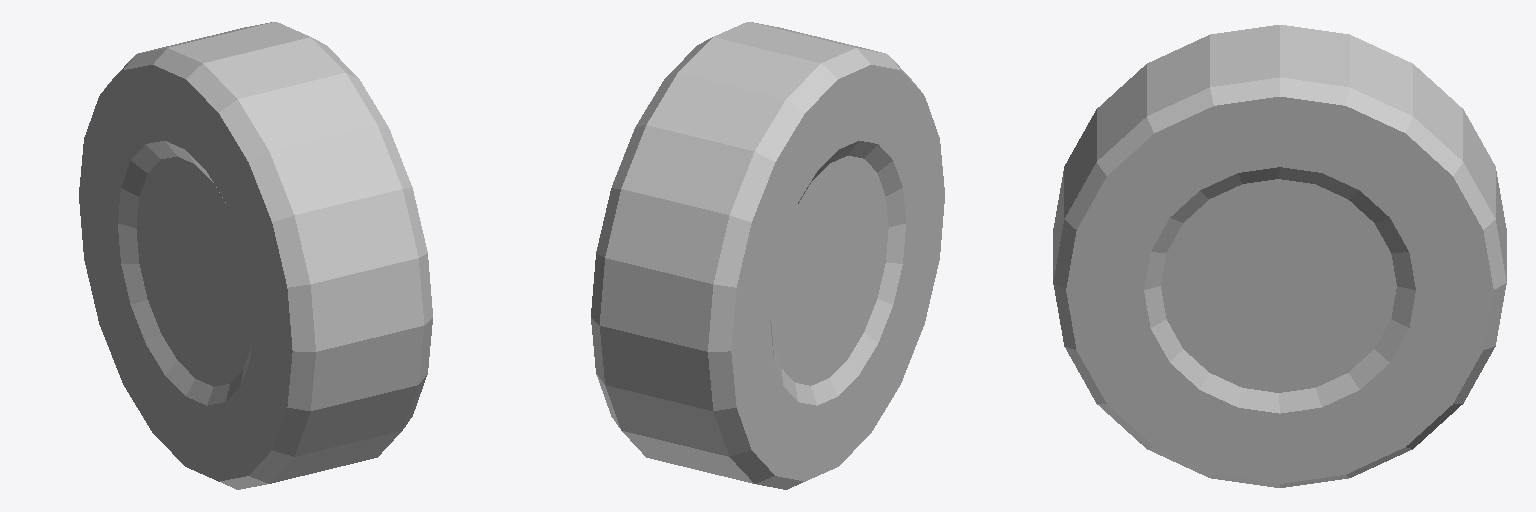
The model's file is BMWWheels.obj.
3 renders of one model, left to right at view 1: azimuth 30°, elevation 25°; view 2: azimuth 150°, elevation 25°; view 3: azimuth 270°, elevation 25°, orthographic.
Visible parts, largest first — view 1: Forward.L; view 2: Forward.L; view 3: Forward.L.
Boxes of the visible parts, x1,y1,x2,y2 form: Forward.L: [79, 22, 432, 489]; Forward.L: [591, 22, 944, 489]; Forward.L: [1053, 25, 1506, 487].
Size of the model in its own units: 0.3453 by 0.965 by 0.965.